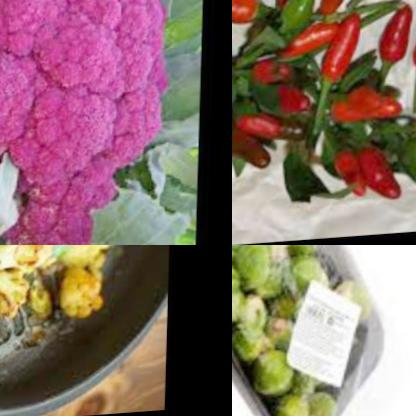brus capusta: (232, 245, 317, 329), (232, 332, 313, 416), (304, 376, 359, 416)
cayliflower: (0, 0, 183, 245), (0, 245, 165, 358)
hot pepper: (315, 142, 402, 210), (337, 80, 405, 138), (278, 16, 348, 70), (328, 12, 372, 95), (258, 61, 314, 122), (375, 1, 416, 79), (232, 120, 271, 181), (234, 109, 289, 148), (232, 0, 269, 34), (312, 0, 362, 23), (270, 0, 334, 17), (232, 98, 240, 153)
